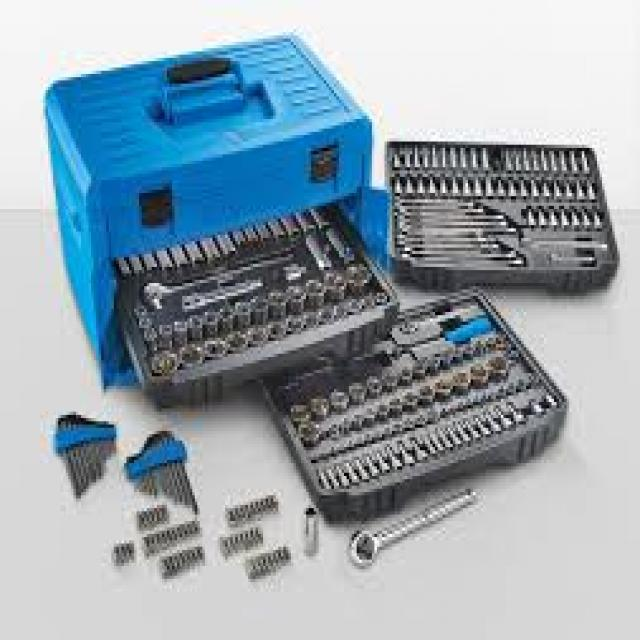wrench: (339, 482, 482, 572)
